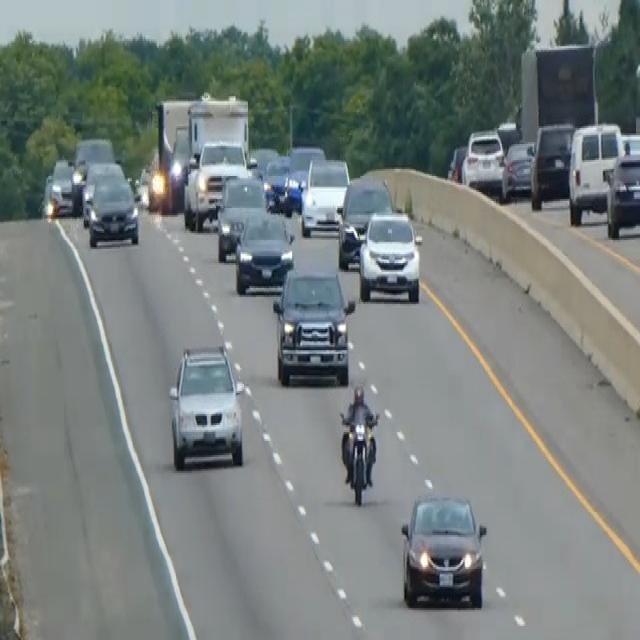car: (399, 489, 487, 610), (167, 340, 245, 471), (182, 137, 249, 229), (357, 208, 422, 302), (567, 119, 625, 224), (233, 206, 295, 295), (336, 174, 393, 268), (214, 172, 267, 262), (300, 154, 350, 236), (529, 119, 574, 208), (87, 174, 139, 247), (70, 135, 115, 212), (604, 148, 639, 238), (461, 126, 505, 194), (80, 158, 124, 226), (283, 144, 325, 213), (501, 137, 535, 199), (48, 157, 76, 215), (263, 153, 290, 211), (446, 142, 467, 183)
jeep: (272, 263, 356, 388)
motorcycle: (338, 407, 379, 505)
truck: (517, 39, 599, 144)
